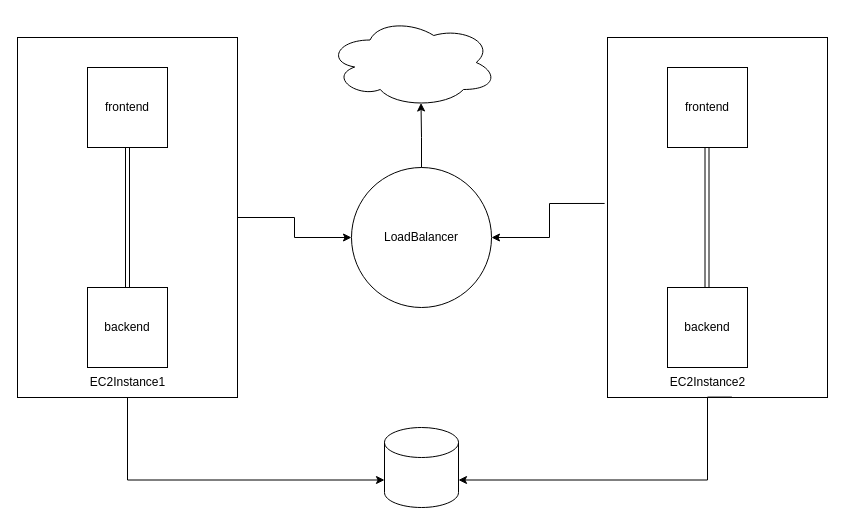
Some shapes in this 845 by 525 pixel diagram are drawn without their labels. Here are the shapes that lost their labels. From the top down, the box of each, then its label:
(326, 16, 498, 108): Web
(384, 426, 458, 508): MongoDB
